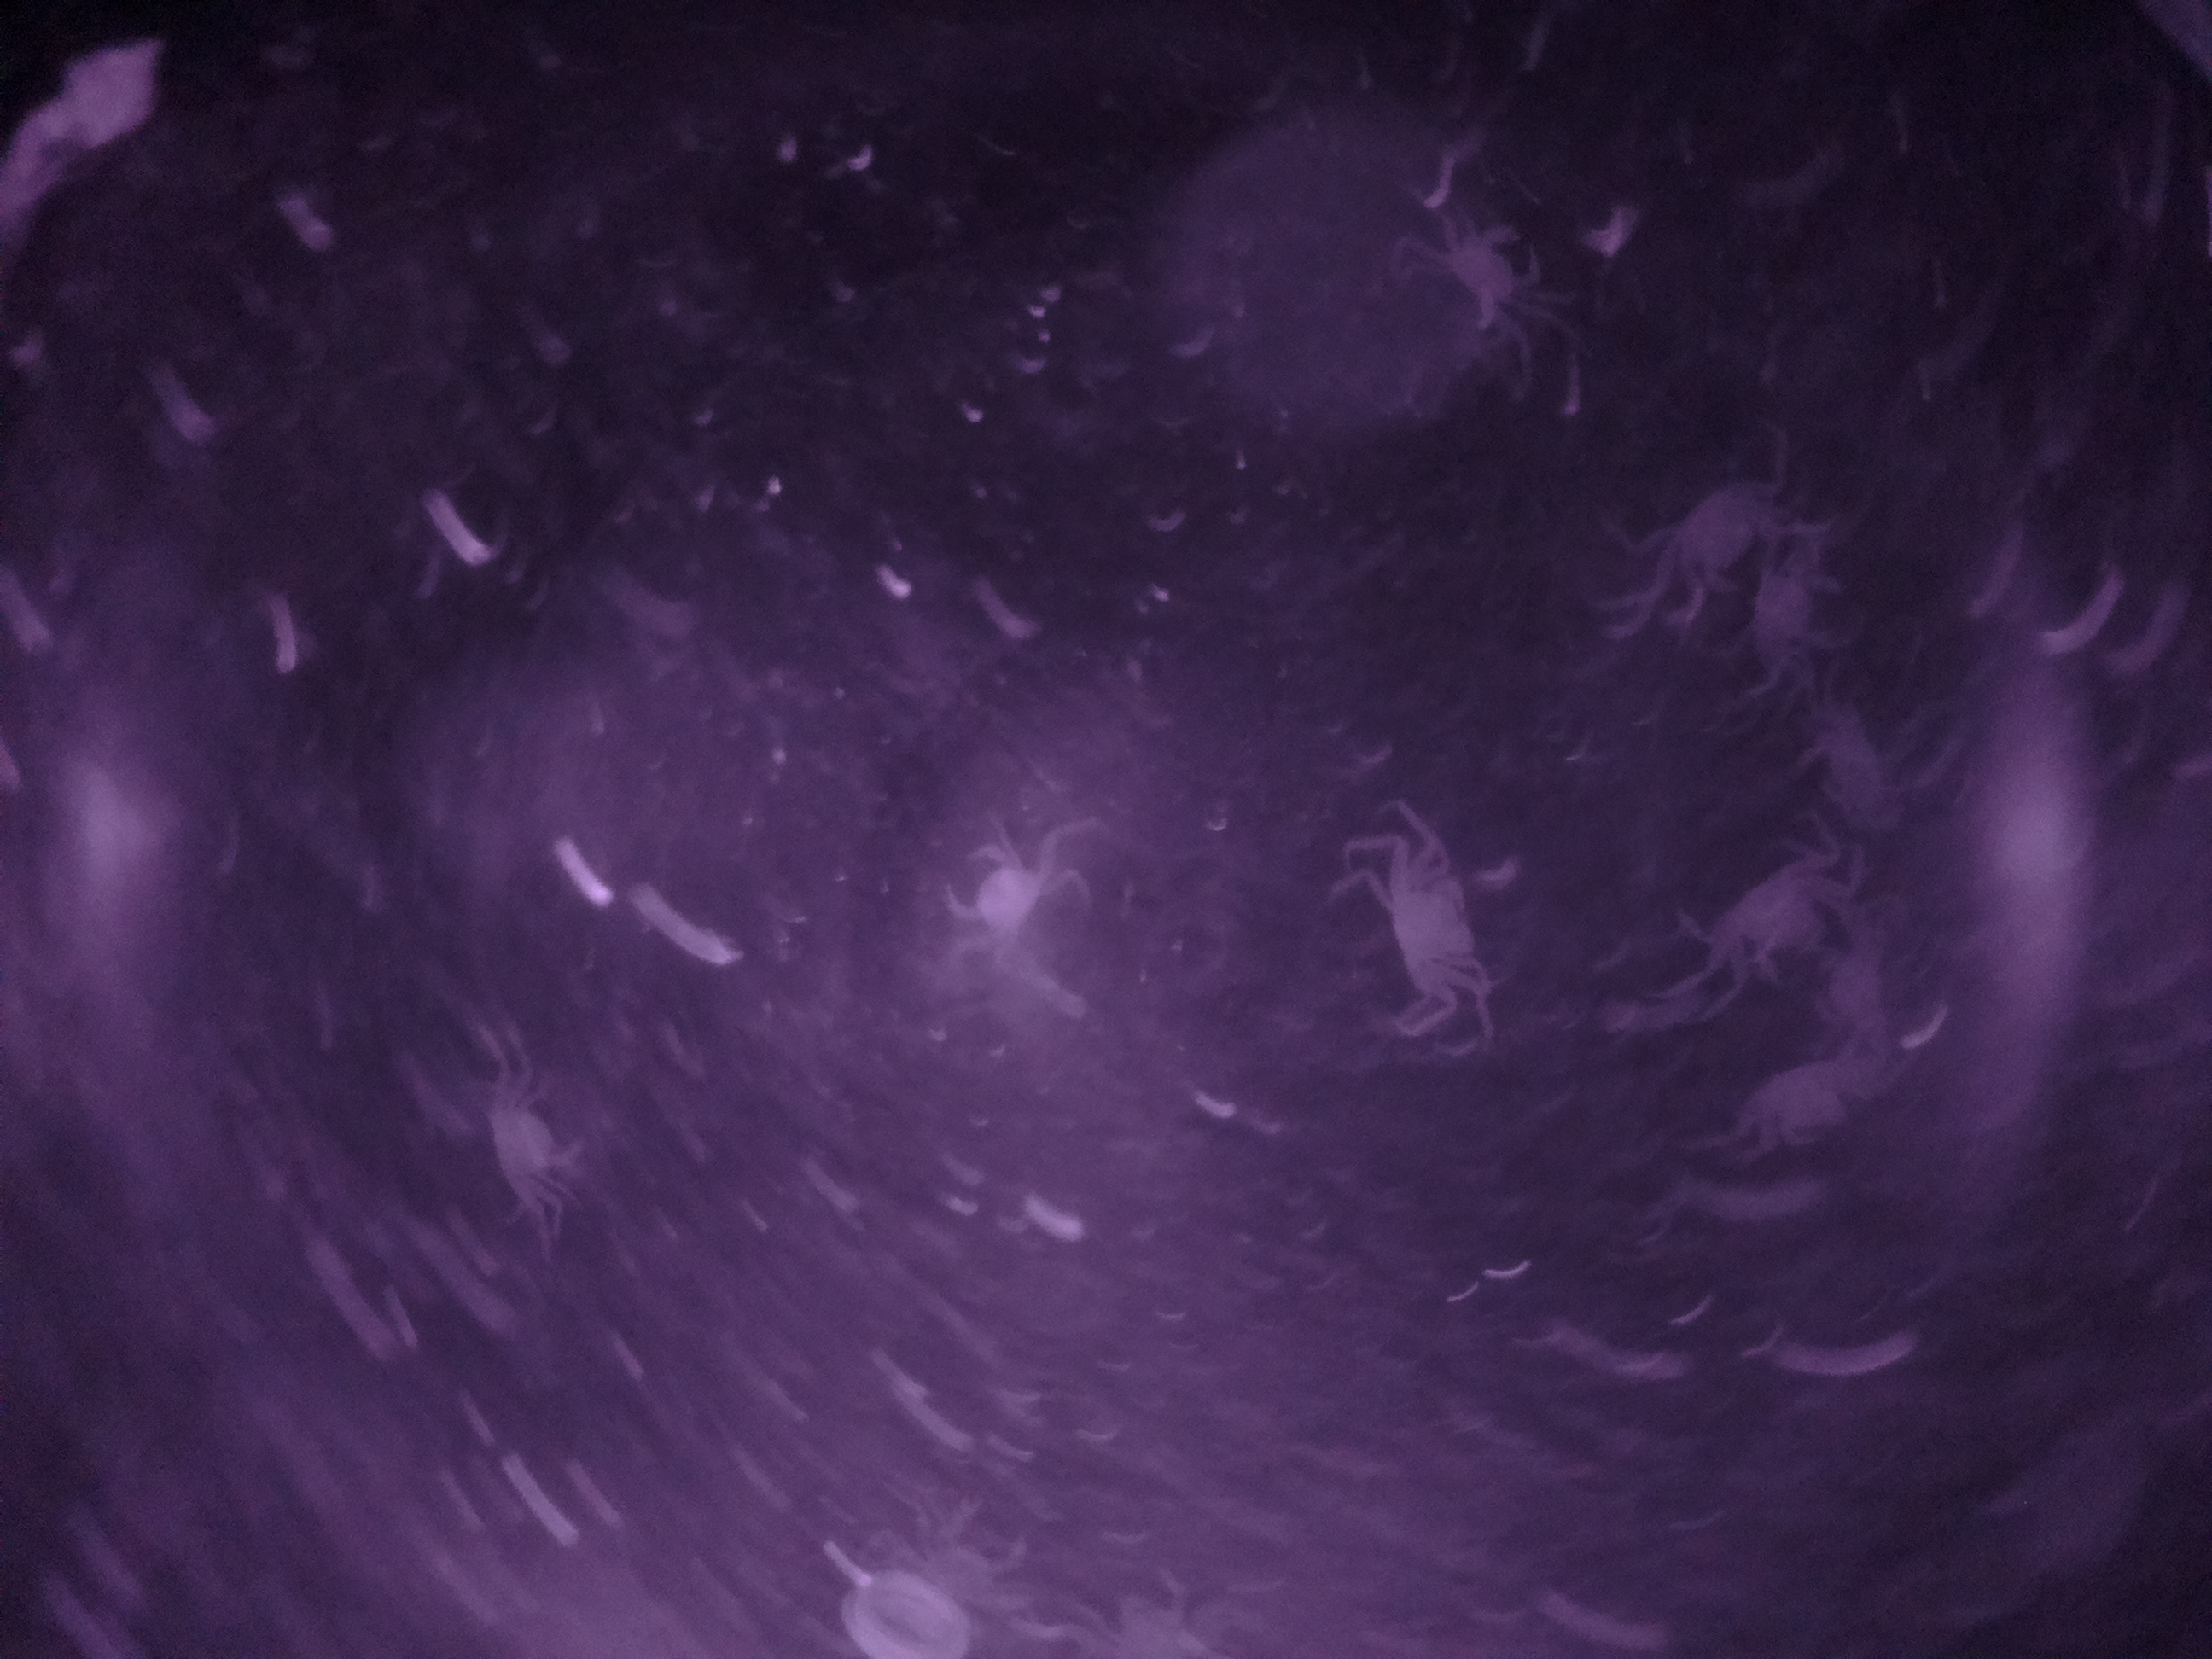Crab: (1355, 836, 1514, 1033)
